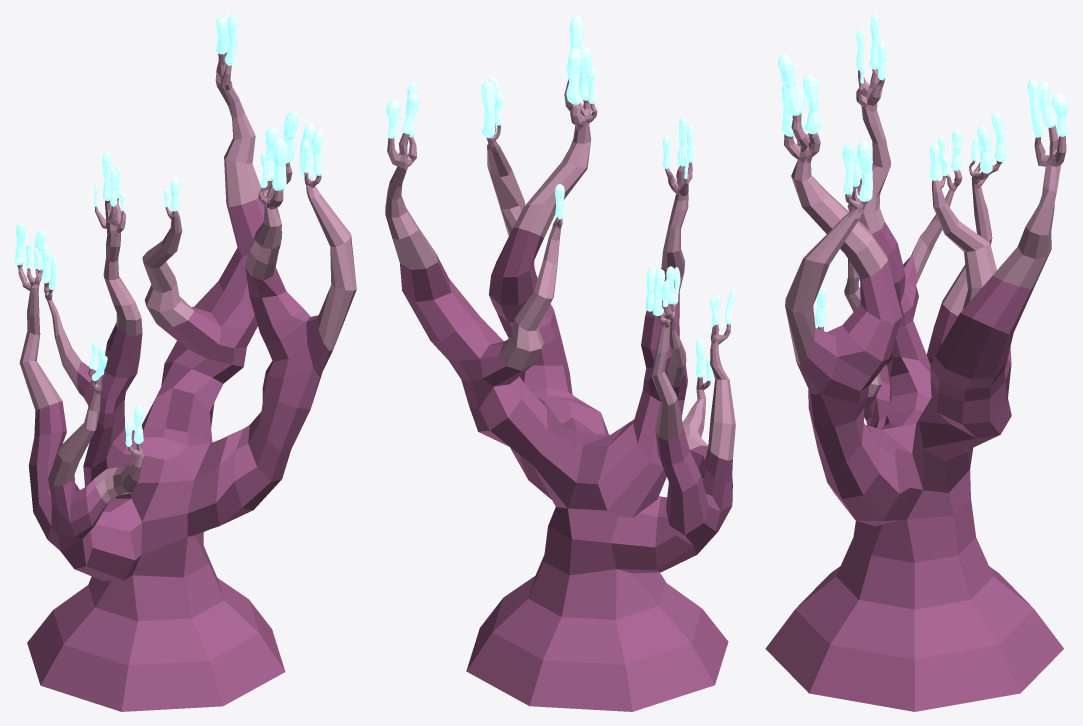
The model's file is Tree_12_Var_02.fbx.
3 renders of one model, left to right at view 1: azimuth 30°, elevation 25°; view 2: azimuth 150°, elevation 25°; view 3: azimuth 270°, elevation 25°, orthographic. The views are drawn at different scales.
Visible parts, largest first — view 1: Tree_12_Var_02; view 2: Tree_12_Var_02; view 3: Tree_12_Var_02.
Part boxes in pixels (box(x1,y1,x2,y2)): Tree_12_Var_02: box(14, 14, 356, 711); Tree_12_Var_02: box(385, 14, 736, 711); Tree_12_Var_02: box(765, 14, 1068, 711).
Bounding box in the file's own units: 3.28 × 7.65 × 3.85.
